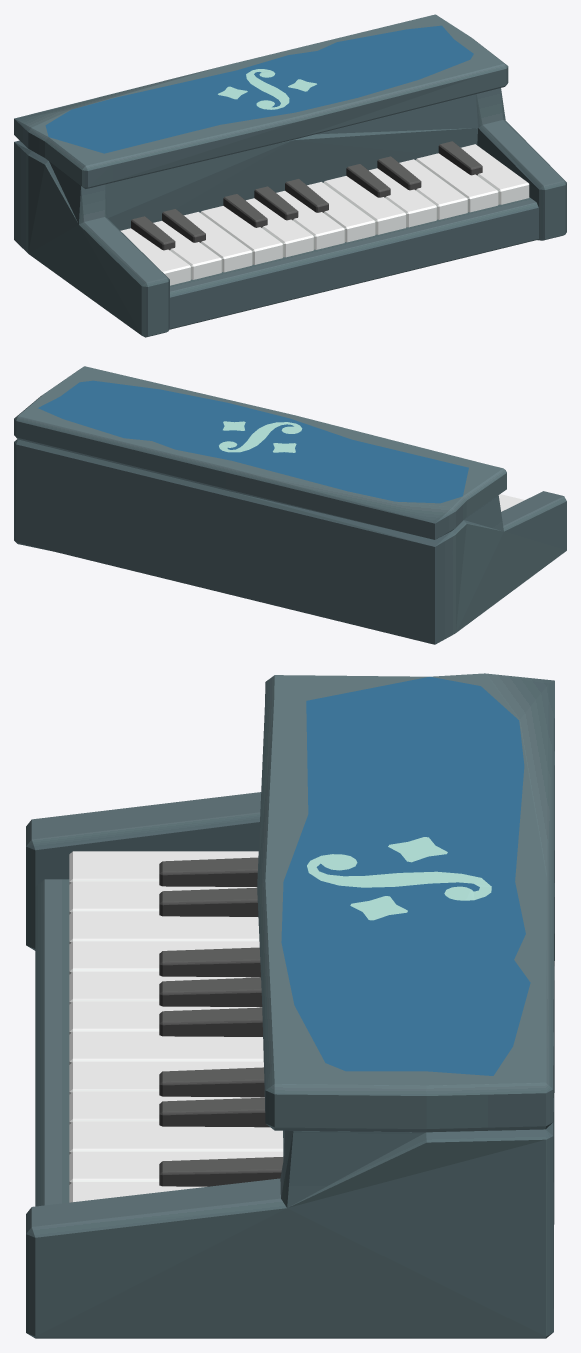
The model's file is CharSkyKid_Prop_AP23PlaceablePianoUpright.glb.
3 views of the same model, one above another, from view 1: azimuth 30°, elevation 25°; view 2: azimuth 150°, elevation 25°; view 3: azimuth 270°, elevation 25° (orthographic). The views are drawn at different scales.
Parts seen in each view (by area): view 1: CharSkyKid_Prop_AP23PlaceablePianoUpright; view 2: CharSkyKid_Prop_AP23PlaceablePianoUpright; view 3: CharSkyKid_Prop_AP23PlaceablePianoUpright.
Part boxes in pixels (bbox=[...]): CharSkyKid_Prop_AP23PlaceablePianoUpright: bbox=[14, 14, 566, 337]; CharSkyKid_Prop_AP23PlaceablePianoUpright: bbox=[14, 366, 566, 644]; CharSkyKid_Prop_AP23PlaceablePianoUpright: bbox=[26, 673, 554, 1338].
Size of the model in its own units: 4.13 by 1.19 by 2.2.
1 material, 1 textured.
